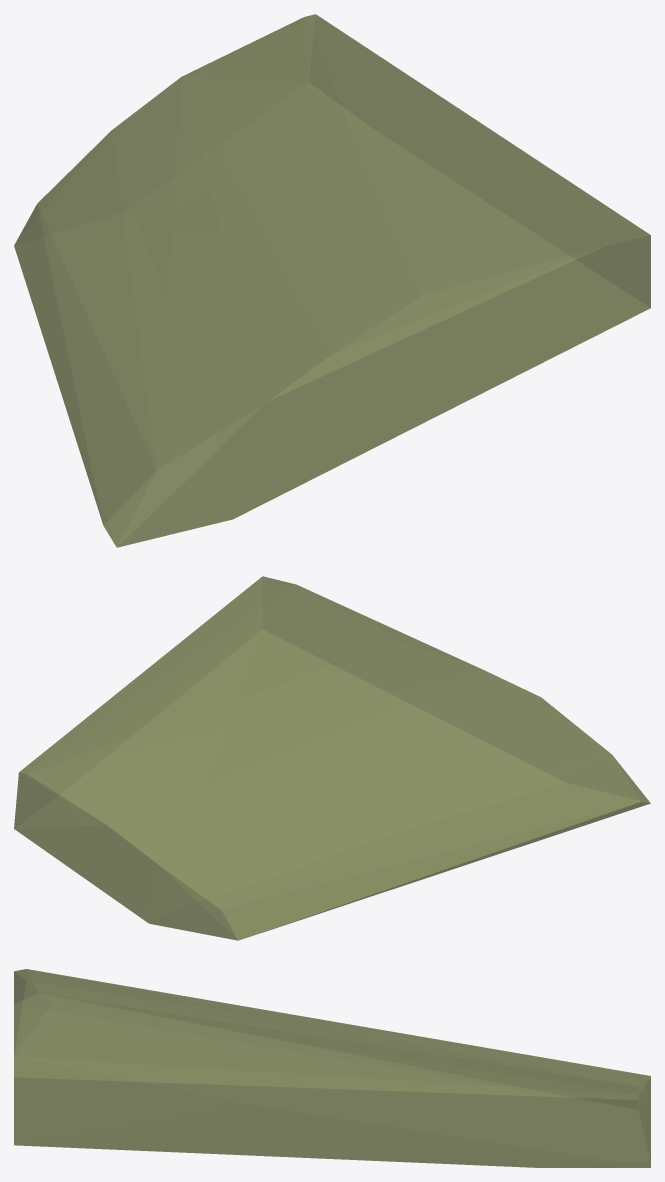
3 renders of one model, top to bottom at view 1: azimuth 30°, elevation 25°; view 2: azimuth 150°, elevation 25°; view 3: azimuth 270°, elevation 25°, orthographic. The views are drawn at different scales.
Visible parts, largest first — view 1: Shape_IndexedFaceSet.051_Shape_IndexedFaceSet.13123; view 2: Shape_IndexedFaceSet.051_Shape_IndexedFaceSet.13123; view 3: Shape_IndexedFaceSet.051_Shape_IndexedFaceSet.13123.
Boxes of the visible parts, x1,y1,x2,y2 form: Shape_IndexedFaceSet.051_Shape_IndexedFaceSet.13123: (14,14,650,547); Shape_IndexedFaceSet.051_Shape_IndexedFaceSet.13123: (14,576,650,940); Shape_IndexedFaceSet.051_Shape_IndexedFaceSet.13123: (14,969,650,1167).
Size of the model in its own units: 0.1043 by 0.034 by 0.1157.
